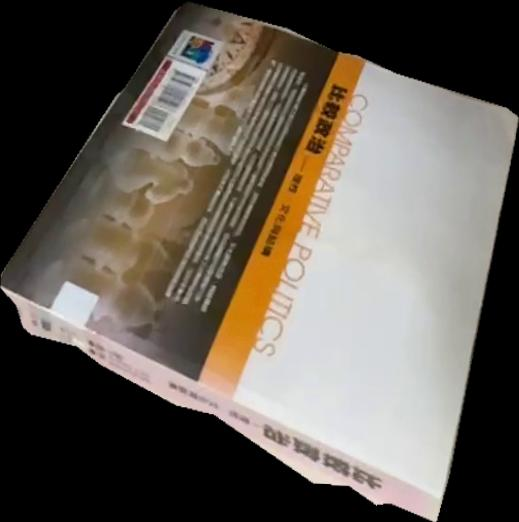flat: (1, 1, 519, 522)
